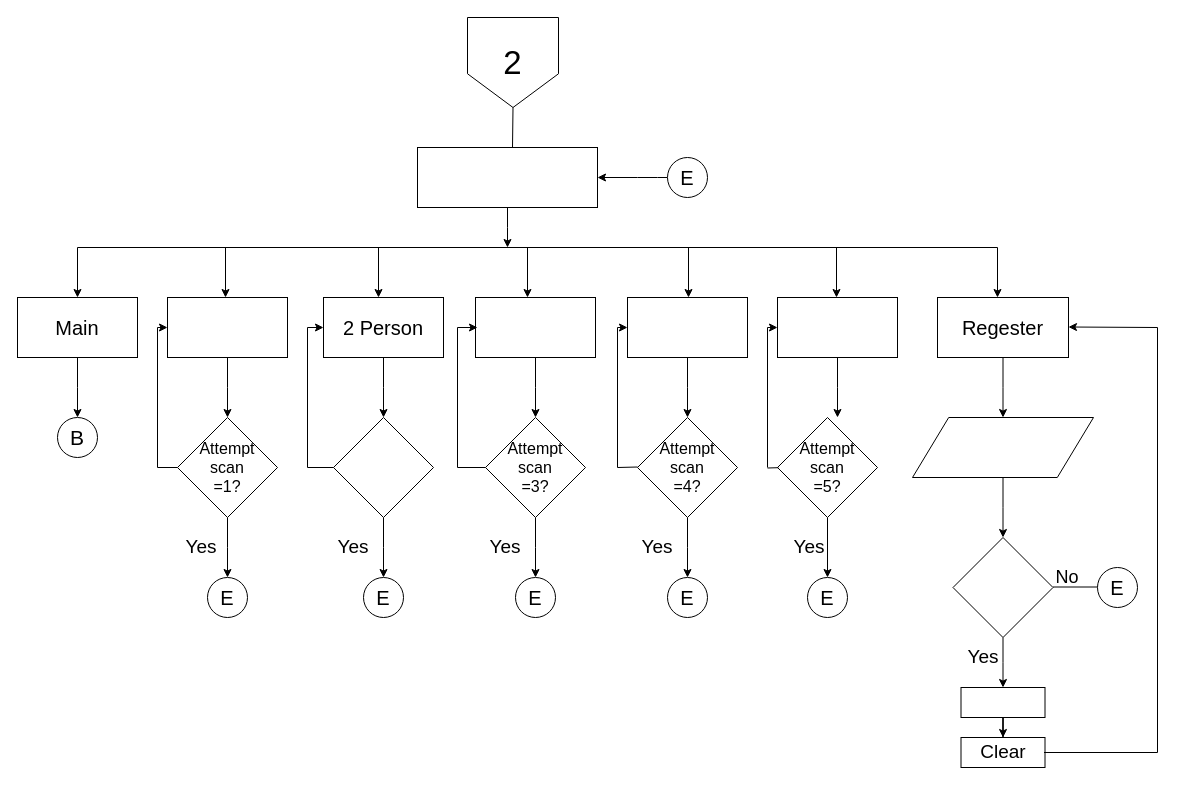
This 1183x785 diagram has some shape labels left out. Each missing label, with the centre of its shape:
"1 Person" goes at point (227, 327).
"3 Person" goes at point (535, 327).
"4 Person" goes at point (687, 327).
"5 Person" goes at point (837, 327).
"Attempt scan =2?" goes at point (383, 467).
"Attendance System" goes at point (507, 177).
"input new tourguide/drive" goes at point (1003, 447).
"Save" goes at point (1002, 702).
"Save?" goes at point (1002, 587).
